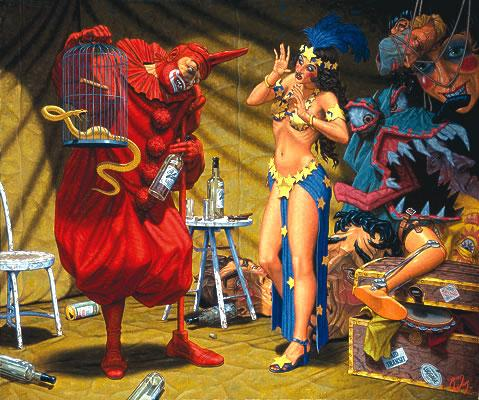person: (50, 24, 235, 380), (243, 35, 350, 377), (411, 21, 479, 115), (377, 10, 448, 79)
